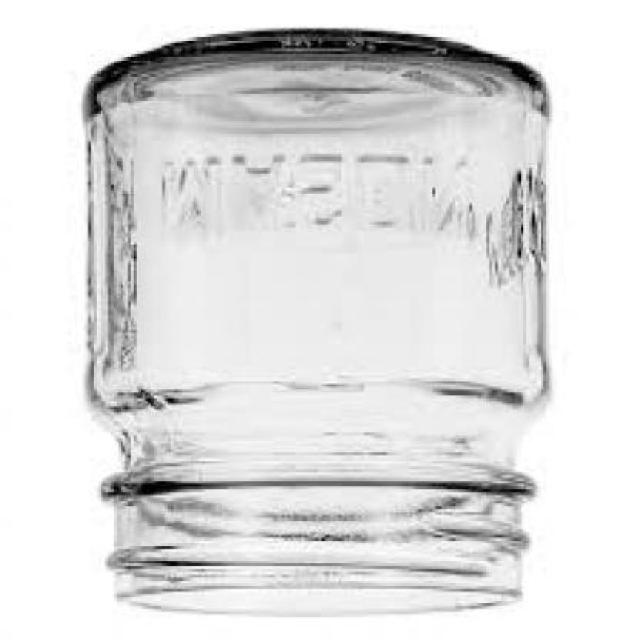GLASS: (85, 34, 549, 620)
